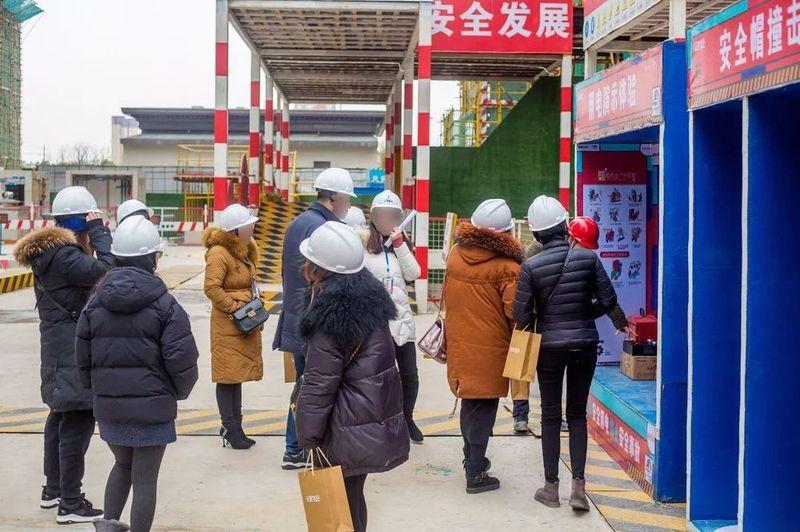helmet: (305, 226, 371, 275), (115, 202, 168, 258), (50, 186, 107, 218), (529, 196, 569, 233), (316, 167, 359, 199), (476, 200, 516, 233), (220, 204, 260, 232), (570, 216, 600, 248), (371, 191, 406, 215)
